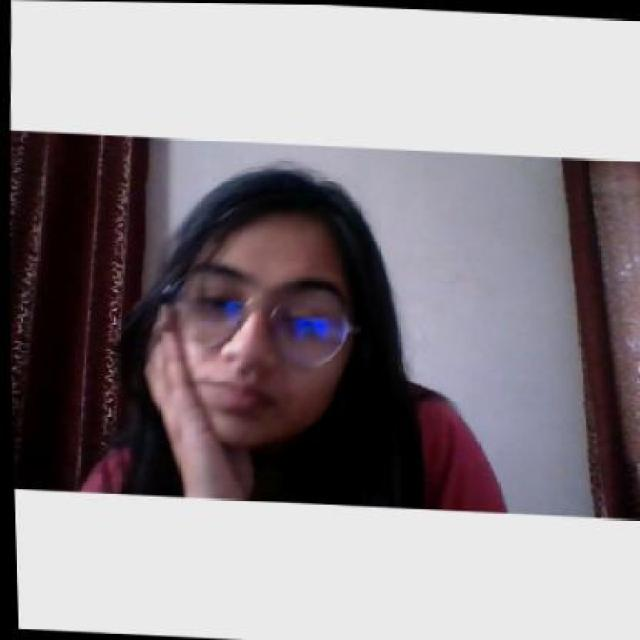inattentif: (162, 162, 364, 452)
